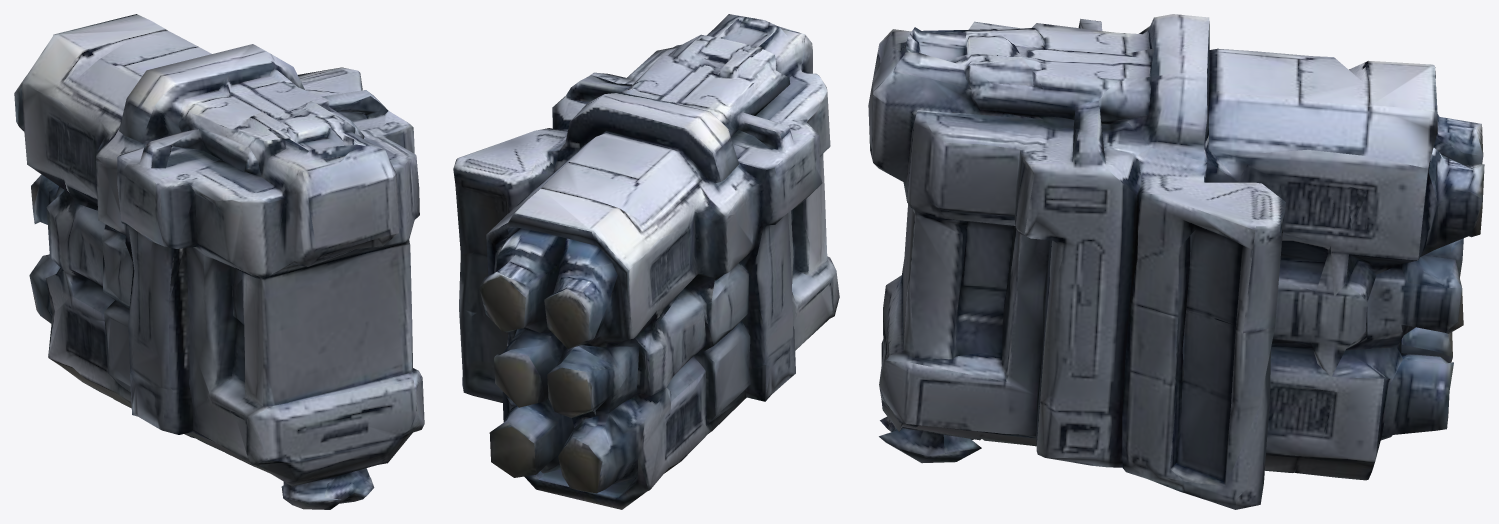
The model's file is wpn_hv_missile_box.glb.
3 views of the same model, side by side, from view 1: azimuth 30°, elevation 25°; view 2: azimuth 150°, elevation 25°; view 3: azimuth 270°, elevation 25° (orthographic). The views are drawn at different scales.
Visible parts, largest first — view 1: wpn_hv_missile_box; view 2: wpn_hv_missile_box; view 3: wpn_hv_missile_box.
Part boxes in pixels (bbox=[...]): wpn_hv_missile_box: bbox=[14, 14, 424, 509]; wpn_hv_missile_box: bbox=[453, 14, 839, 509]; wpn_hv_missile_box: bbox=[868, 14, 1484, 509].
Bounding box in the file's own units: 0.1717 × 0.203 × 0.2702.
Materials: 1 (1 with a texture image).
